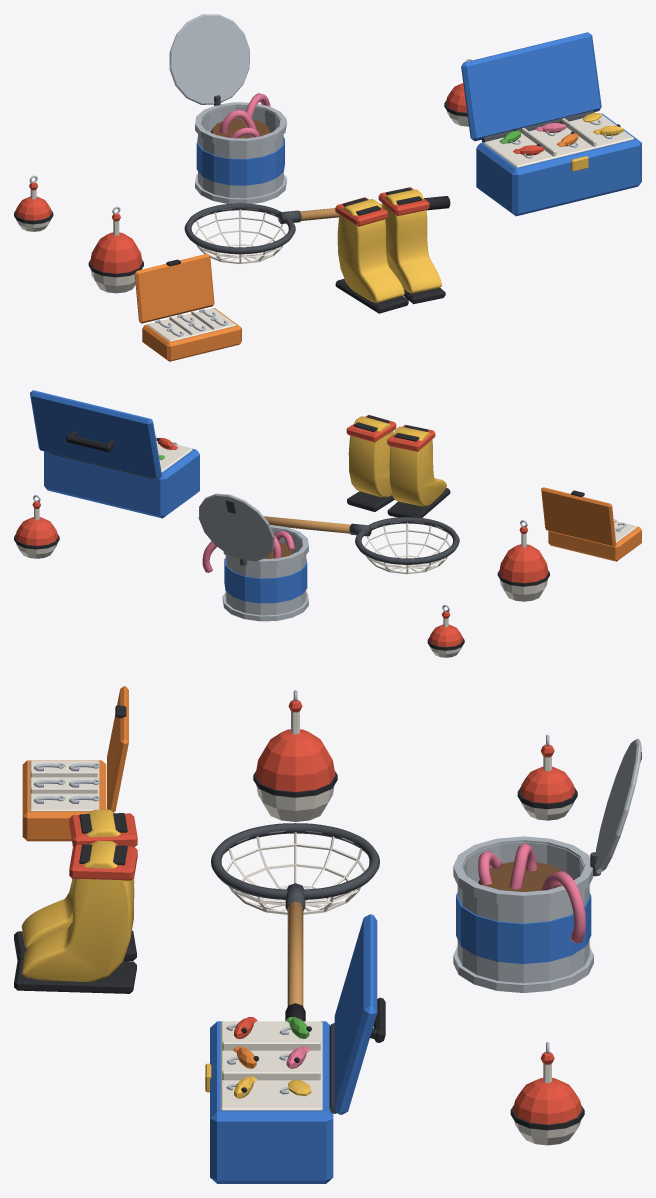
Rendered from bait-and-tackle-set.glb.
3 views of the same model, one above another, from view 1: azimuth 30°, elevation 25°; view 2: azimuth 150°, elevation 25°; view 3: azimuth 270°, elevation 25° (orthographic). The views are drawn at different scales.
Parts seen in each view (by area): view 1: LureBox_Lid, LureBox_Base, Can_Lid, Boot_L, HookBox_Lid, Boot_R, Can_Body, LureBox_Tray, Can_Label, Bobber_Large_Body, HookBox_Base, Net_Hoop (+10 smaller); view 2: LureBox_Lid, LureBox_Base, Can_Lid, HookBox_Lid, Boot_L, Boot_R, Can_Label, Can_Body, Bobber_Large_Body, Net_Hoop, HookBox_Base, Net_Mesh (+11 smaller); view 3: LureBox_Base, Boot_R, Can_Body, LureBox_Tray, LureBox_Lid, Bobber_Large_Body, Can_Label, Net_Hoop, Bobber_Medium_Body, Net_Mesh, Can_RimTop, Can_Lid (+15 smaller).
Boxes of the visible parts, x1,y1,x2,y2 form: LureBox_Lid: (461,32,601,141); LureBox_Base: (476,113,641,216); Can_Lid: (169,14,249,104); Boot_L: (337,199,404,302); HookBox_Lid: (134,253,214,323); Boot_R: (382,189,441,293); Can_Body: (198,106,283,198); LureBox_Tray: (484,114,634,167); Can_Label: (196,137,284,185); Bobber_Large_Body: (90,232,142,293); HookBox_Base: (142,308,241,361); Net_Hoop: (184,203,295,254); LureBox_Lid: (30,390,161,478); LureBox_Base: (44,445,199,518); Can_Lid: (198,493,274,561); HookBox_Lid: (541,487,616,546); Boot_L: (389,426,446,506); Boot_R: (348,416,393,497); Can_Label: (224,558,307,603); Can_Body: (225,528,306,615); Bobber_Large_Body: (499,544,548,601); Net_Hoop: (355,517,459,564); HookBox_Base: (548,521,641,561); Net_Mesh: (362,521,452,574); LureBox_Base: (210,1021,333,1183); Boot_R: (21,840,134,982); Can_Body: (457,842,589,983); LureBox_Tray: (220,1021,322,1110); LureBox_Lid: (334,914,377,1114); Bobber_Large_Body: (255,729,335,821); Can_Label: (456,892,591,963); Net_Hoop: (211,823,379,899); Bobber_Medium_Body: (513,1078,581,1145); Net_Mesh: (222,830,368,914); Can_RimTop: (453,836,593,905); Can_Lid: (595,738,641,873).
Bounding box in the file's own units: 10.75 × 2.74 × 7.14.
